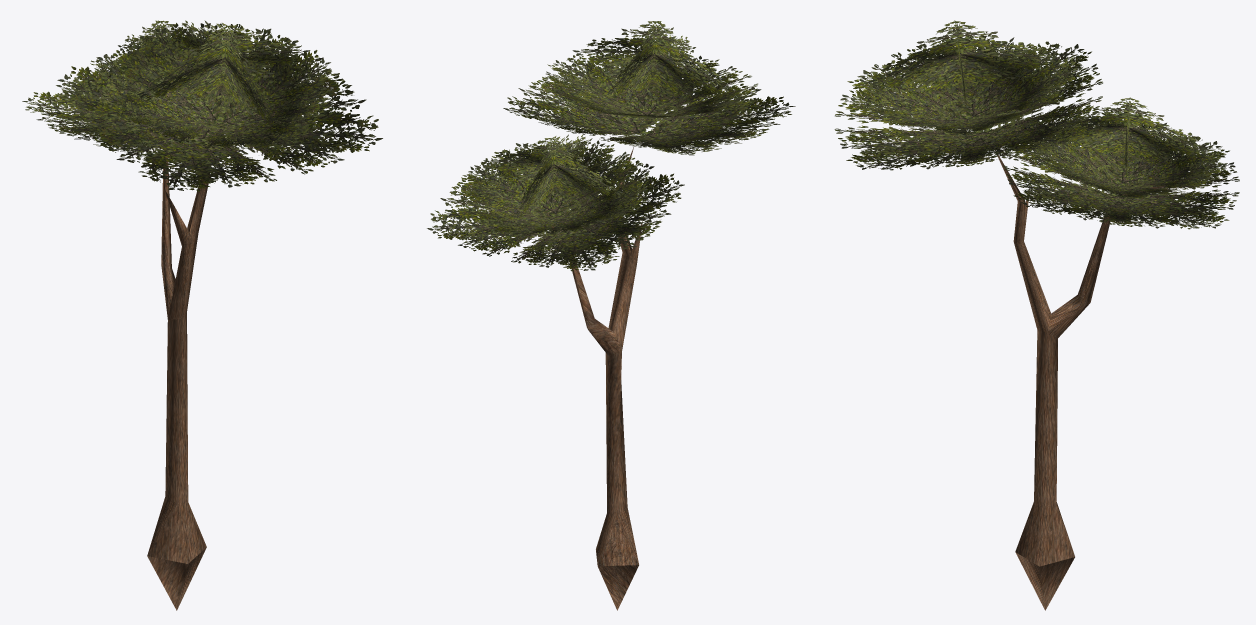
Rendered from decd_dath_fuourn_l3.fbx.
3 views of the same model, side by side, from view 1: azimuth 30°, elevation 25°; view 2: azimuth 150°, elevation 25°; view 3: azimuth 270°, elevation 25° (orthographic). The views are drawn at different scales.
Parts seen in each view (by area): view 1: mesh_node; view 2: mesh_node; view 3: mesh_node.
Boxes of the visible parts, bbox=[...] form: mesh_node: bbox=[22, 20, 382, 610]; mesh_node: bbox=[427, 21, 795, 610]; mesh_node: bbox=[834, 20, 1239, 610].
Size of the model in its own units: 36.01 by 77.86 by 48.28.
